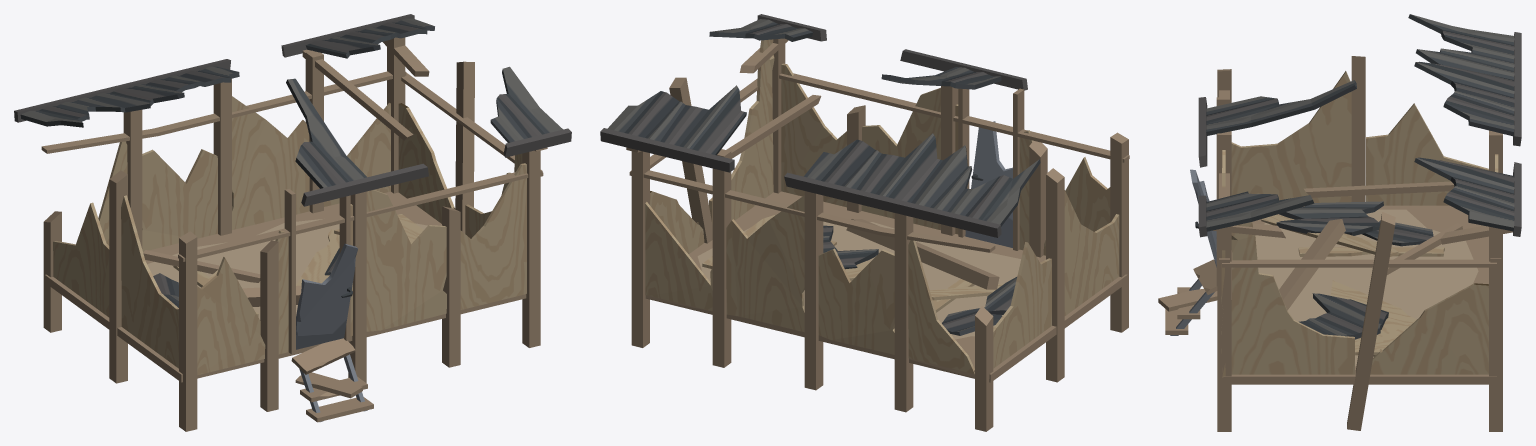
File: SM_Bld_Plywood_Shed_Destroyed_01.fbx
3 renders of one model, left to right at view 1: azimuth 30°, elevation 25°; view 2: azimuth 150°, elevation 25°; view 3: azimuth 270°, elevation 25°, orthographic.
Visible parts, largest first — view 1: SM_Bld_Plywood_Shed_Destroyed_01; view 2: SM_Bld_Plywood_Shed_Destroyed_01; view 3: SM_Bld_Plywood_Shed_Destroyed_01.
Part boxes in pixels (bbox=[...]): SM_Bld_Plywood_Shed_Destroyed_01: bbox=[14, 14, 571, 431]; SM_Bld_Plywood_Shed_Destroyed_01: bbox=[600, 14, 1129, 431]; SM_Bld_Plywood_Shed_Destroyed_01: bbox=[1158, 14, 1521, 431].
Size of the model in its own units: 807 by 508 by 638.
